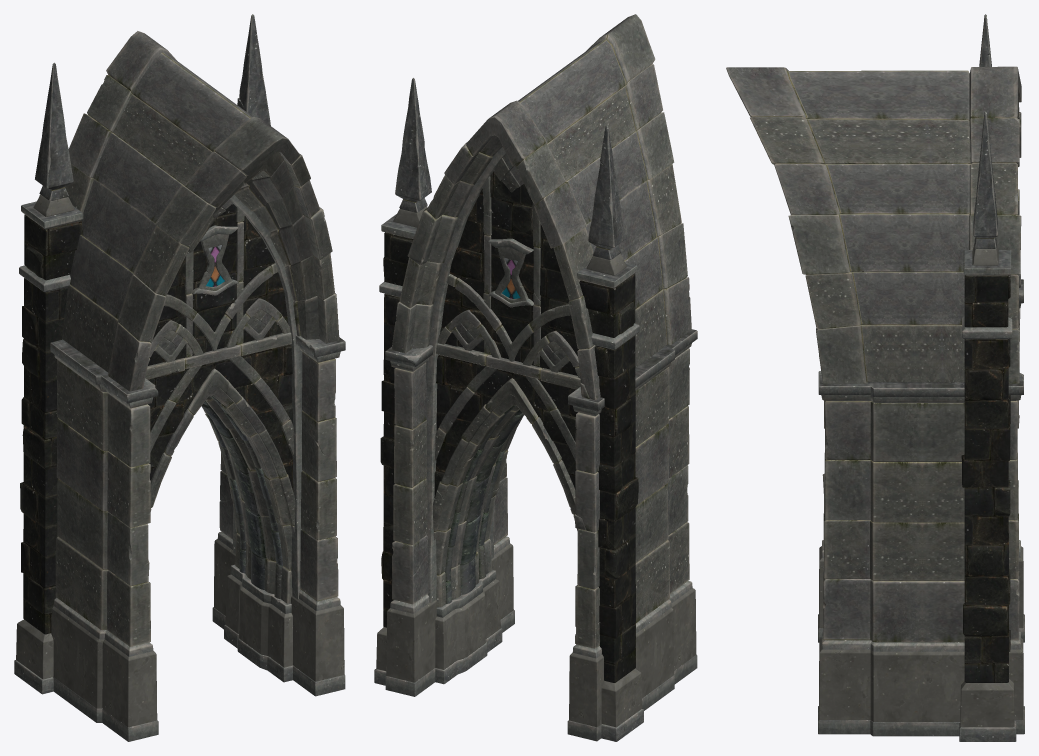
3 views of the same model, side by side, from view 1: azimuth 30°, elevation 25°; view 2: azimuth 150°, elevation 25°; view 3: azimuth 270°, elevation 25° (orthographic). The views are drawn at different scales.
Parts seen in each view (by area): view 1: SM_DeathTemple_Side_Door_01v1_LOD0; view 2: SM_DeathTemple_Side_Door_01v1_LOD0; view 3: SM_DeathTemple_Side_Door_01v1_LOD0.
Boxes of the visible parts, left/top/right/bottom form: SM_DeathTemple_Side_Door_01v1_LOD0: left=14, top=14, right=345, bottom=741; SM_DeathTemple_Side_Door_01v1_LOD0: left=374, top=14, right=697, bottom=741; SM_DeathTemple_Side_Door_01v1_LOD0: left=726, top=14, right=1024, bottom=741.
Bounding box in the file's own units: 5.95 × 14.06 × 6.16.
Materials: 5 (5 with a texture image).
